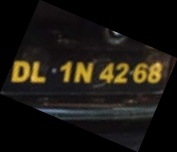character: (10, 59, 30, 83), (73, 60, 93, 83), (29, 60, 46, 83), (98, 61, 114, 84), (113, 61, 128, 84), (147, 61, 162, 84), (132, 62, 148, 83), (59, 60, 73, 83)
